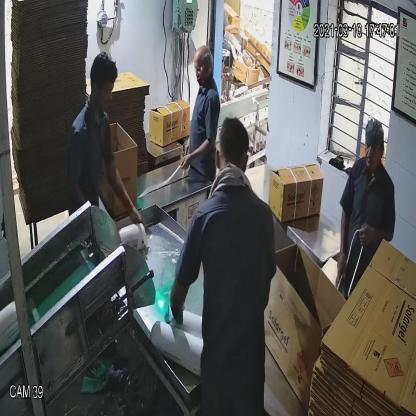no_glove: (102, 153, 148, 238), (350, 213, 391, 258), (334, 191, 350, 289), (178, 134, 215, 172)
